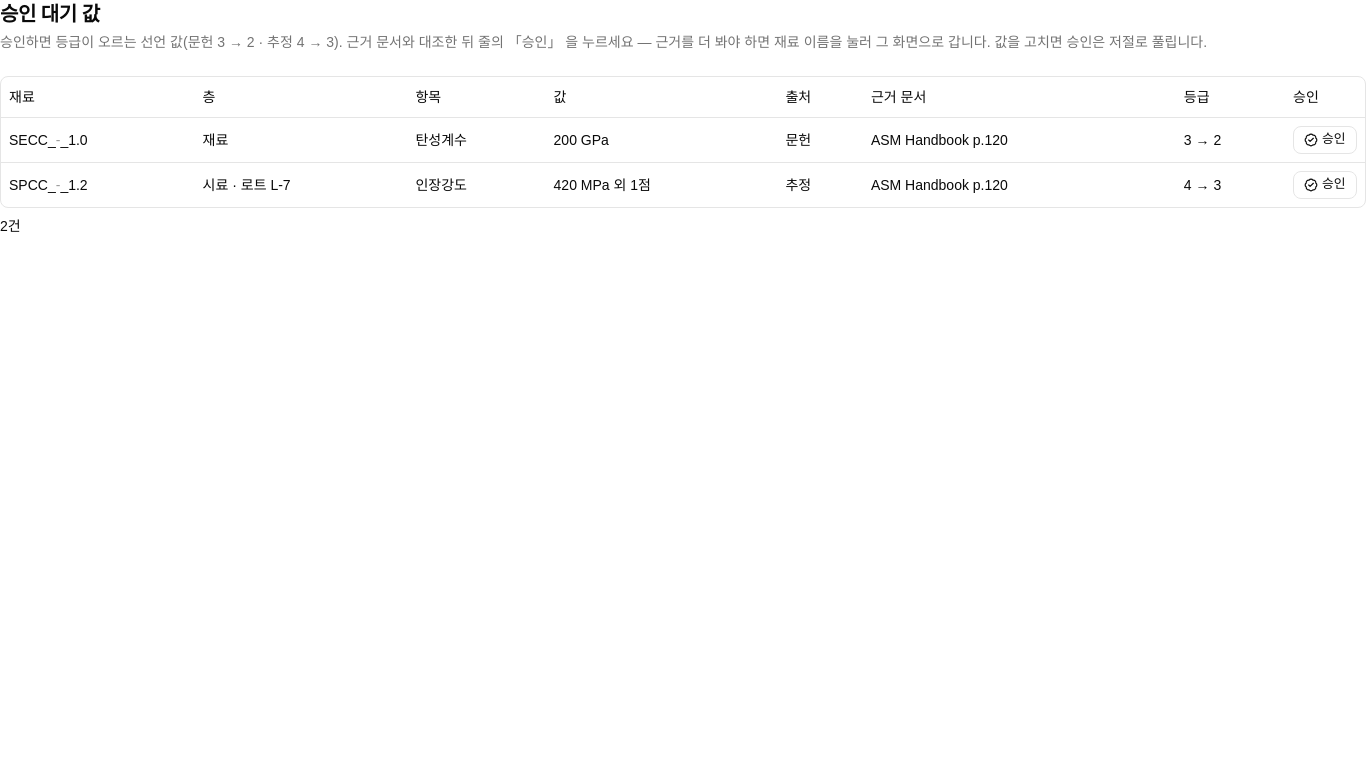
Test case: 자료 관리자는 그 자리에서 승인한다 › 그 사이 값이 바뀌었으면 서버의 말을 창에 보이고 목록을 다시 읽는다
Click the button with aria-label "SECC_-_1.0 탄성계수 승인".
click(1325, 140)  # box [1293,126,1356,154]
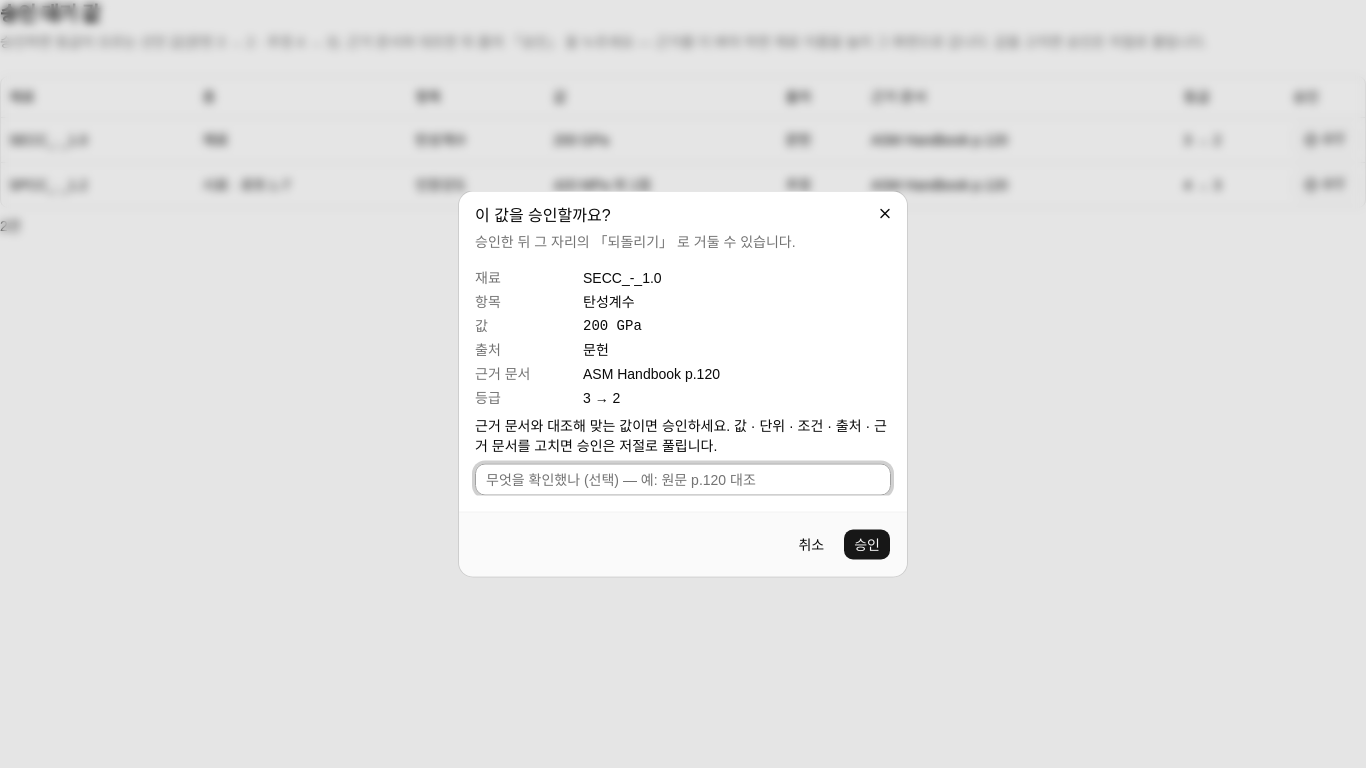
Click the button "승인".
click(867, 544)  # box [843,528,891,560]
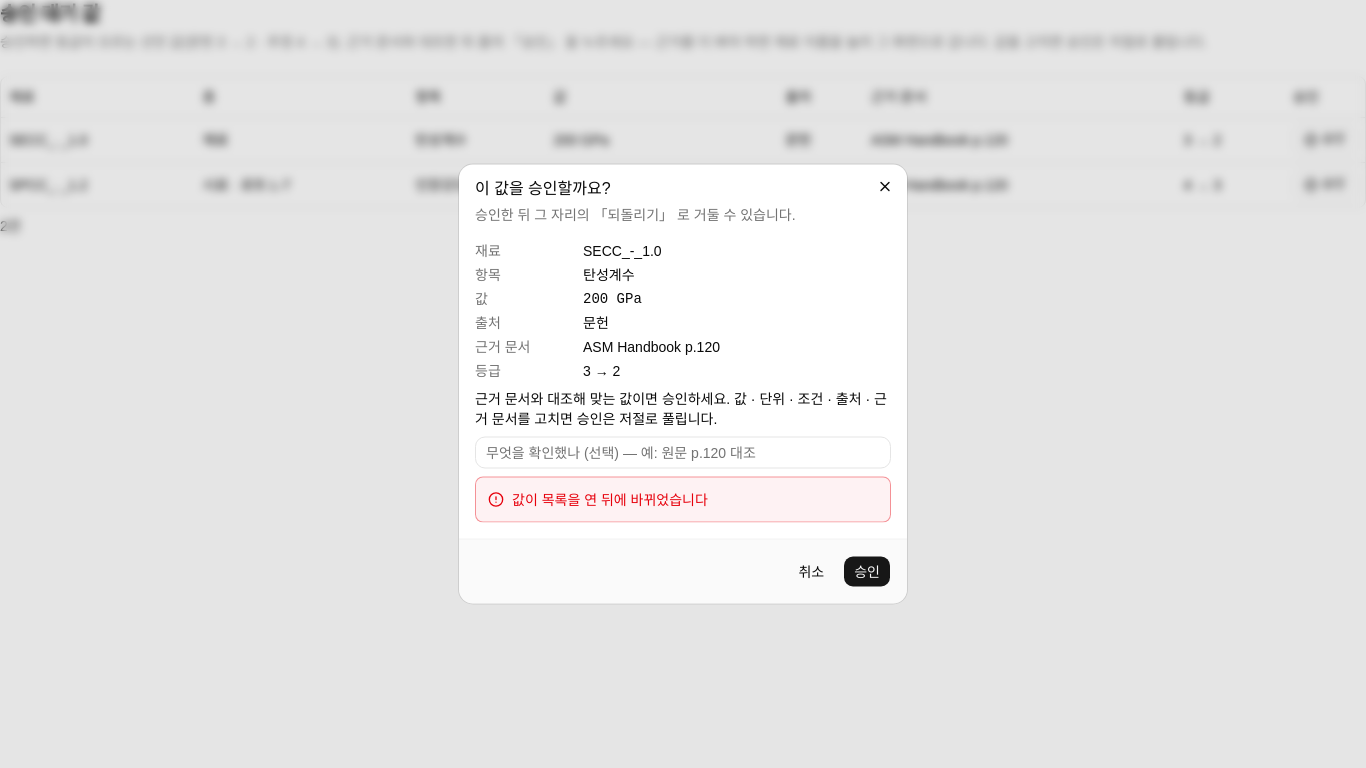
Expected: the text "값이 목록을 연 뒤에 바뀌었습니다" is shown, [512,490,708,510]
